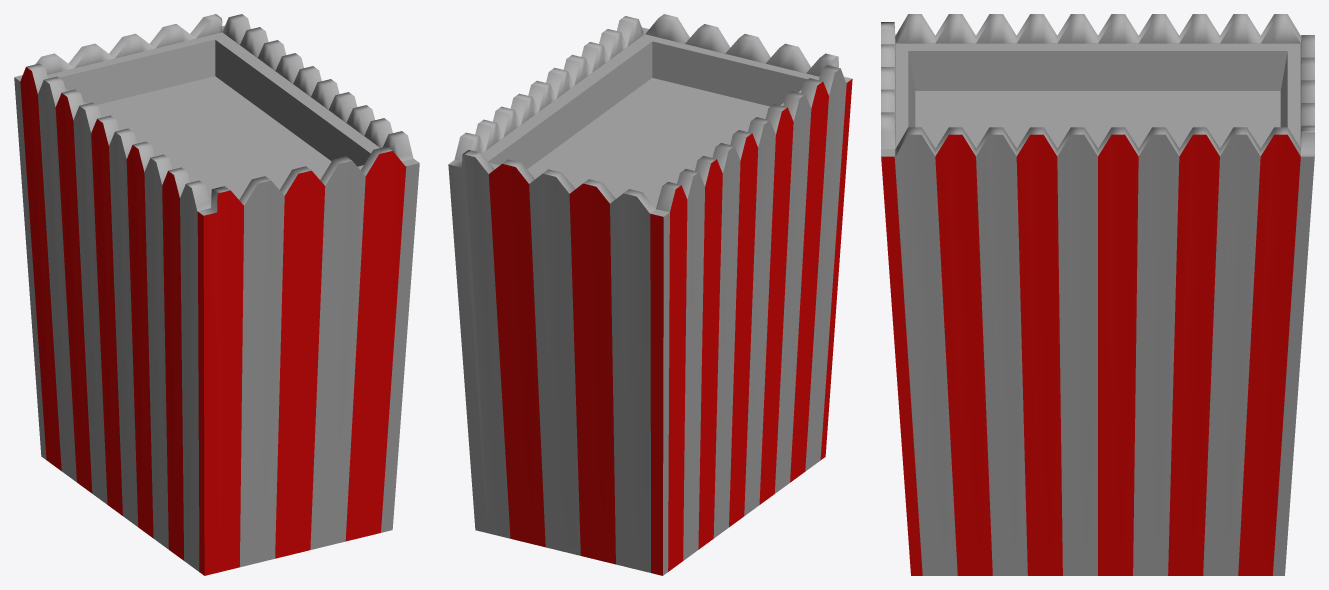
File: popcorn.fbx
The picture shows the model from 3 angles, left to right: view 1: azimuth 30°, elevation 25°; view 2: azimuth 150°, elevation 25°; view 3: azimuth 270°, elevation 25°; orthographic projection. The views are drawn at different scales.
Parts seen in each view (by area): view 1: pCube2; view 2: pCube2; view 3: pCube2.
Boxes of the visible parts, x1=… form: pCube2: x1=14, y1=14, x2=419, y2=575; pCube2: x1=448, y1=14, x2=852, y2=575; pCube2: x1=881, y1=14, x2=1314, y2=575.
Size of the model in its own units: 3.27 by 5.67 by 4.96.
